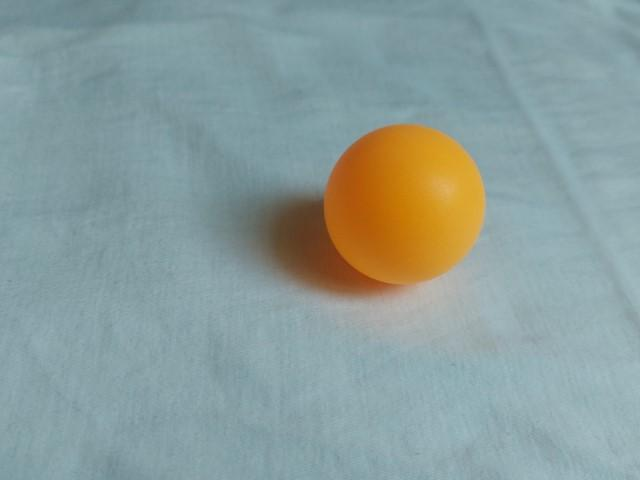oball: (316, 122, 492, 289)
